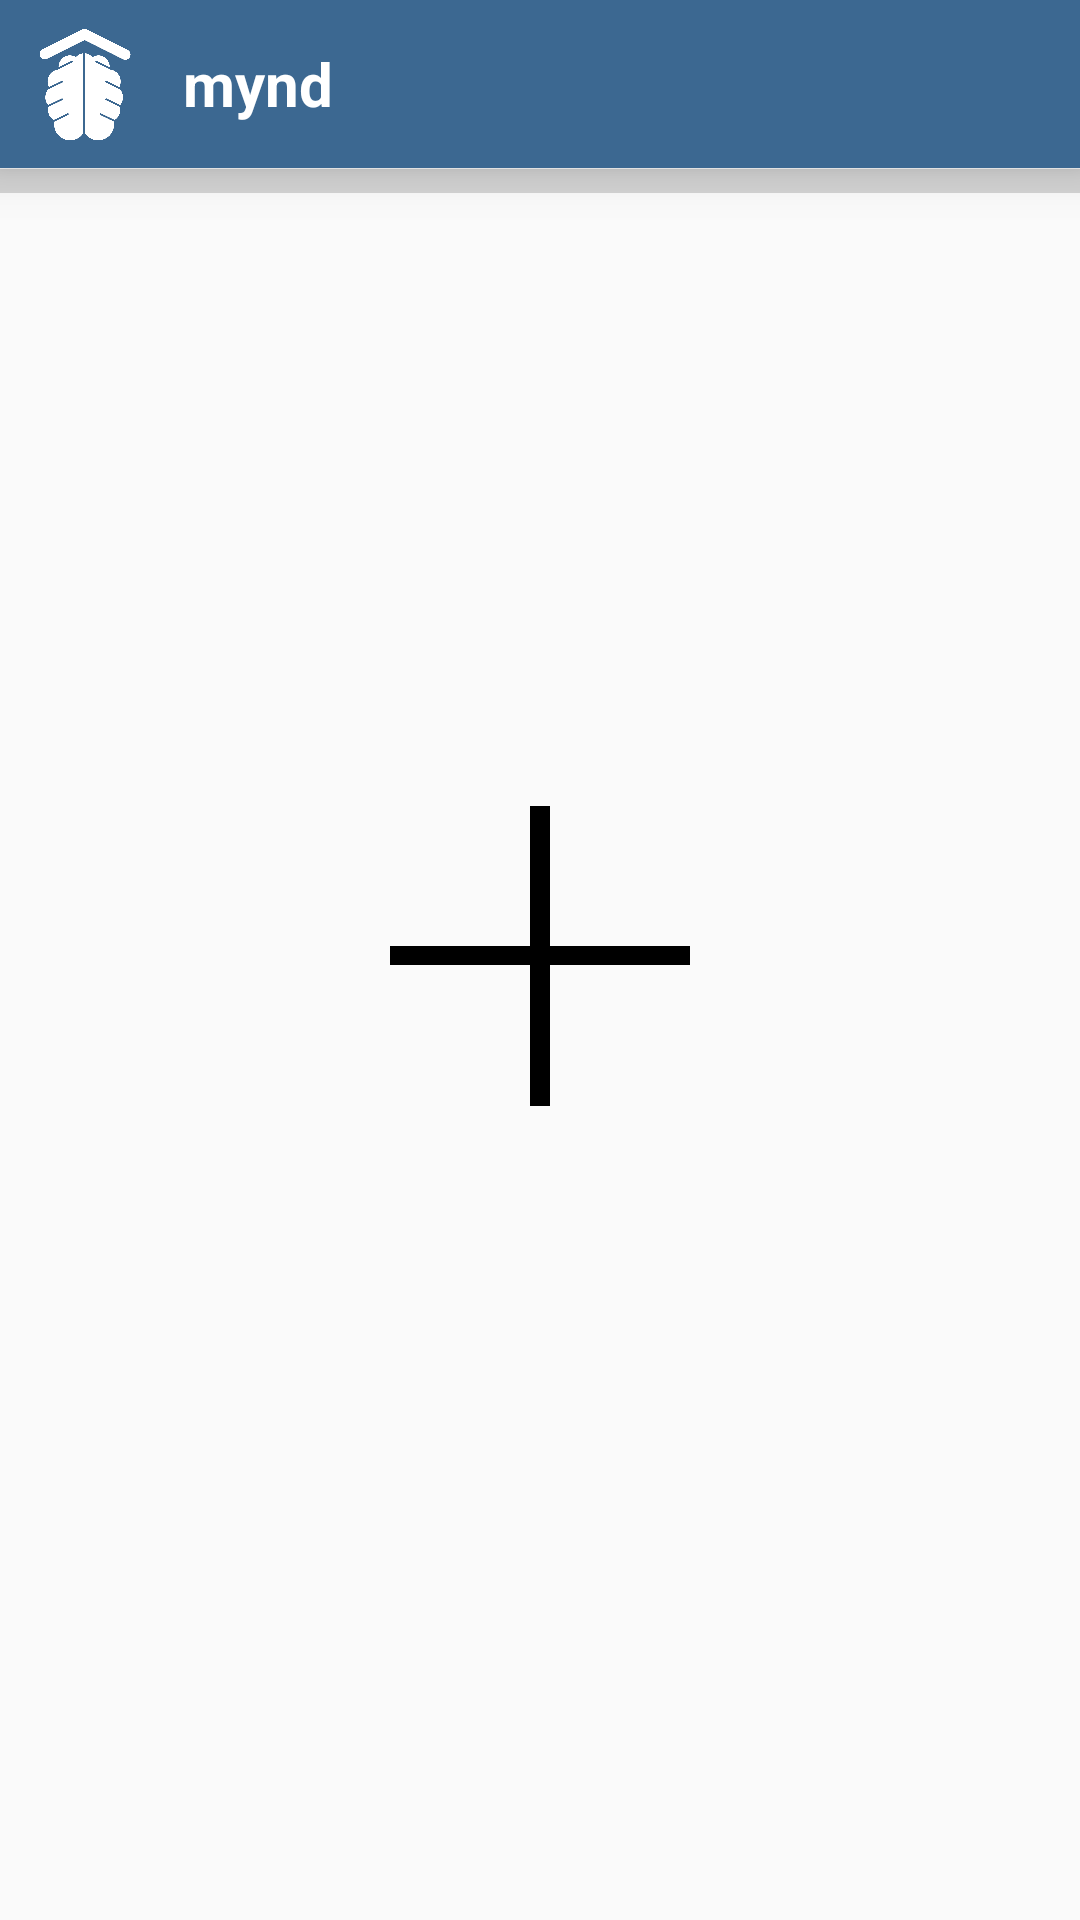

Named icons in this screenshot (1080x1920) and their bounding boxes, (x1, y1, x2, y2):
fixation: (390, 806, 690, 1106)
